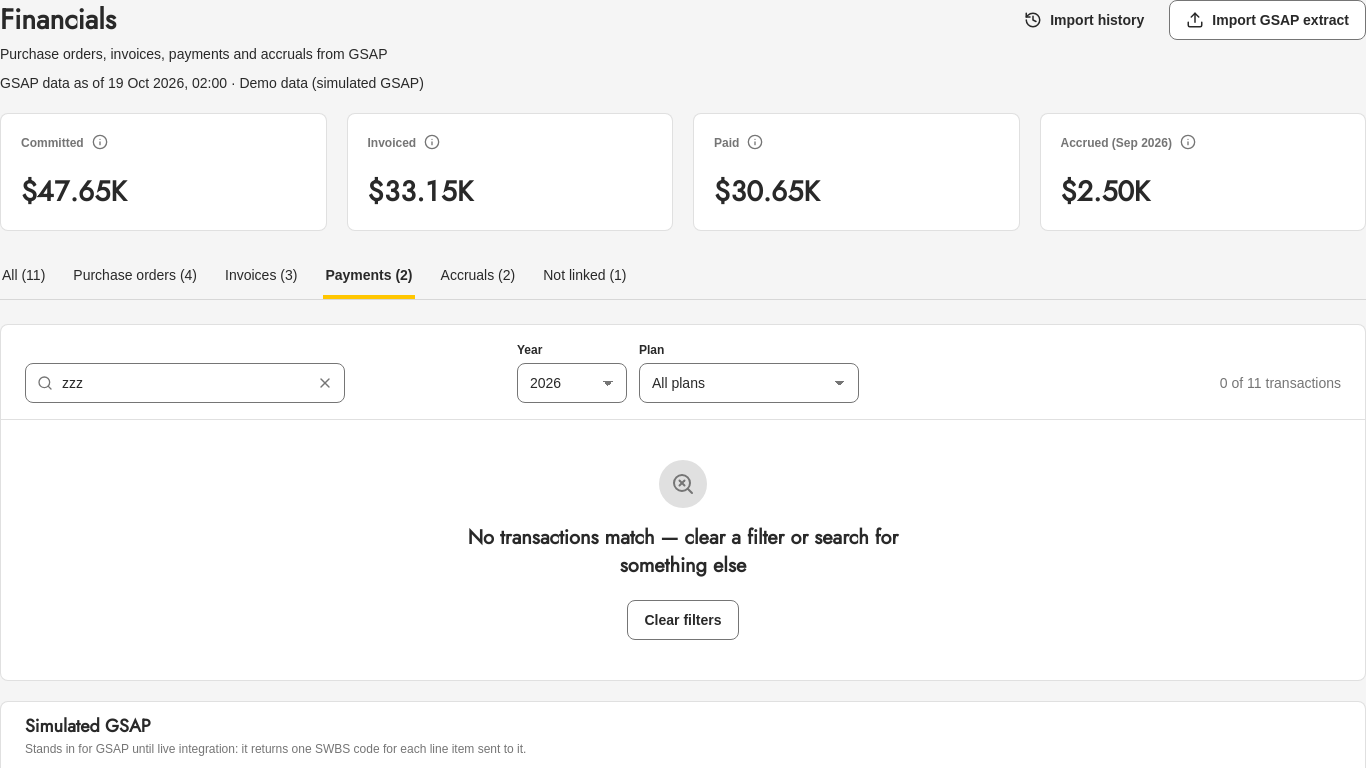
FinancialsPage search, tabs and filters (015 US3, FR-021) › says when nothing matches and clears the filters
Expected: the text "No transactions match — clear a filter or search for something else" is shown, [468,523,898,580]
What coordinates should you click on to do the following:
click the button "Clear filters"
I would click on:
 (683, 620)
Its box is [628,600,738,640].
(page scrolled)
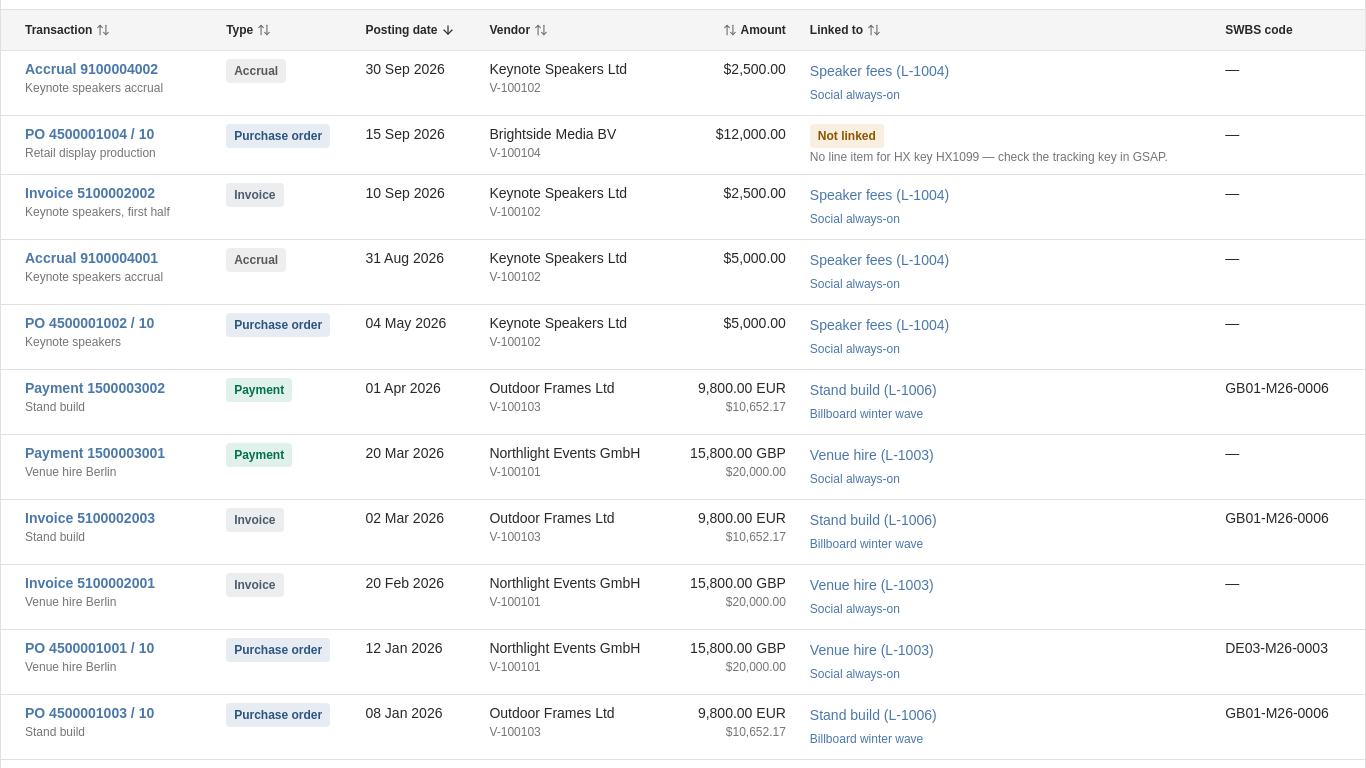
Expected: the table named "Transactions" is shown
